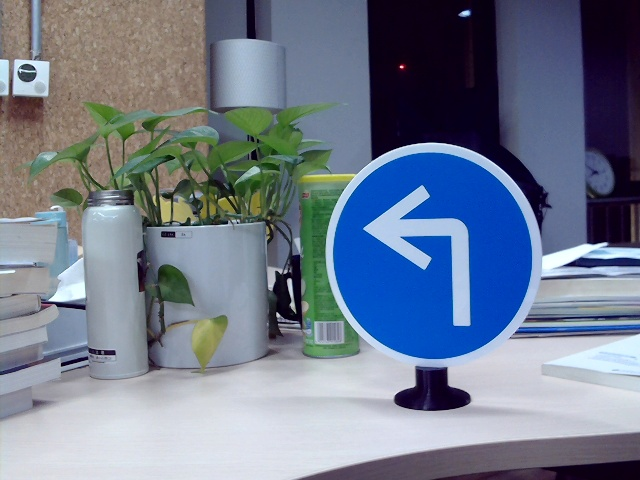turn_left: (363, 182, 487, 325)
